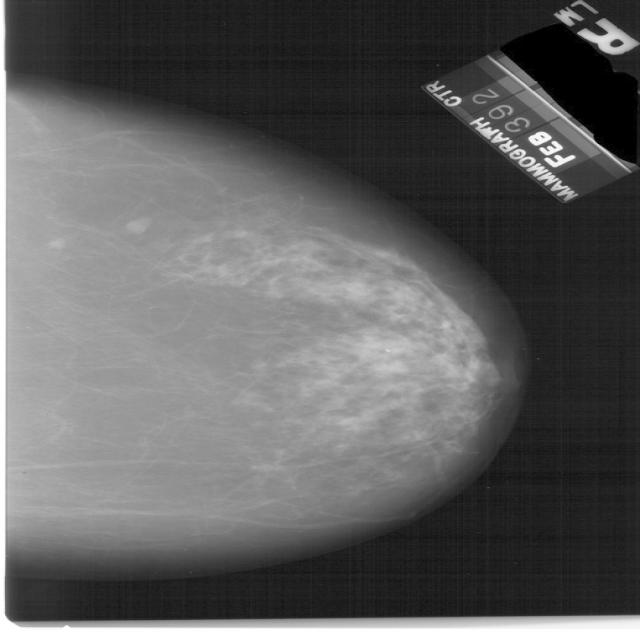tumour: (128, 213, 154, 233)
